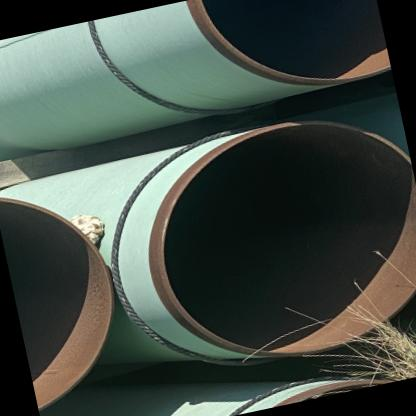clean: (141, 250, 186, 297)
